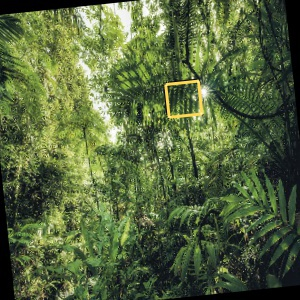square: (160, 77, 206, 121)
